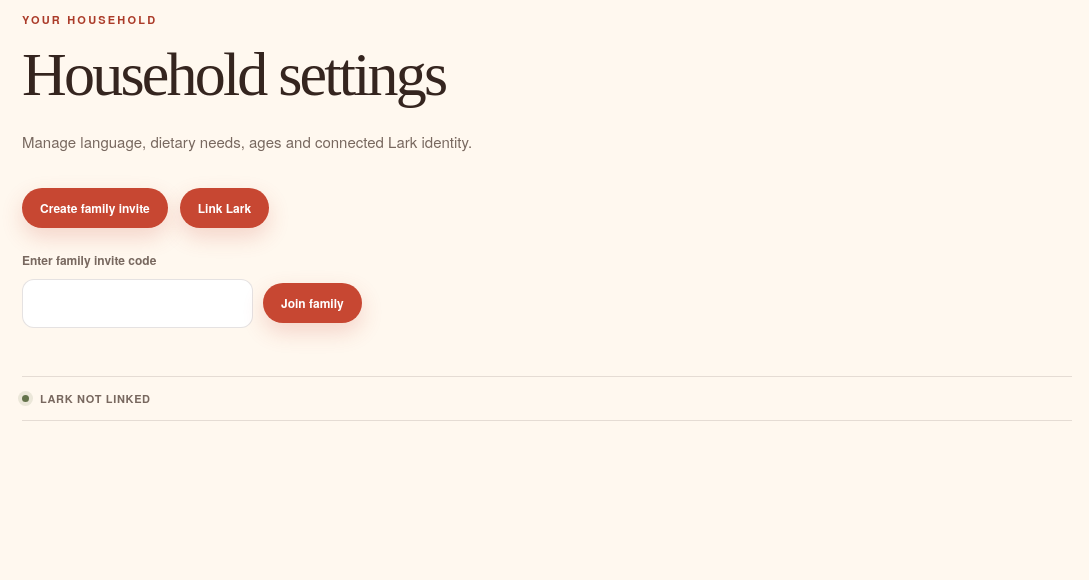
Scenario: creates a family invite and Lark link code from live settings
This screenshot has width=1089, height=580.
Click the button "Create family invite": point(95, 208) [22,188,168,228]
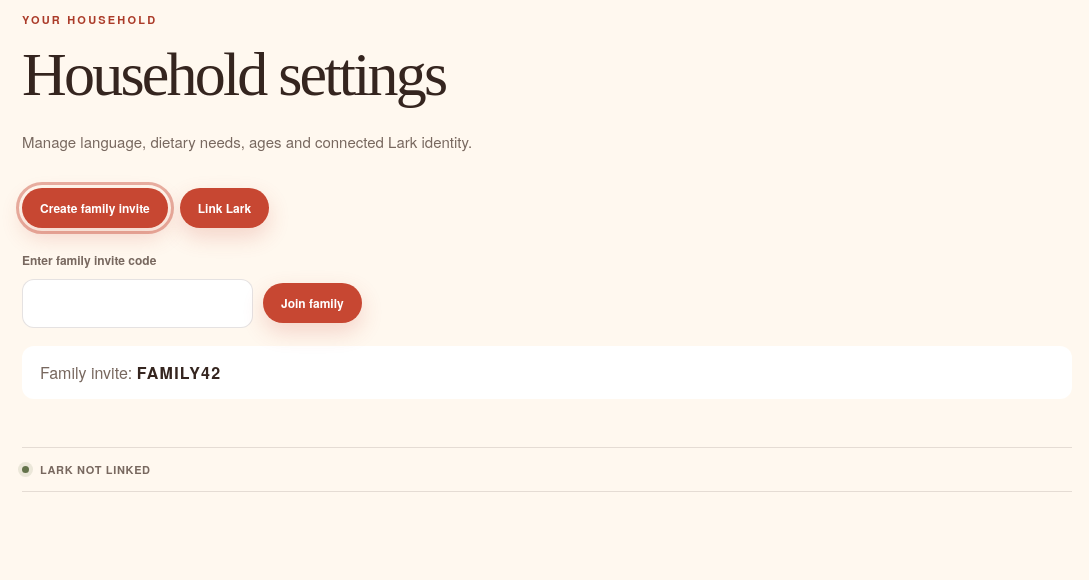
expect the text "FAMILY42" is shown: met, box [137,361,222,384]
Click the button "Link Lark": point(224, 208) [180,188,269,228]
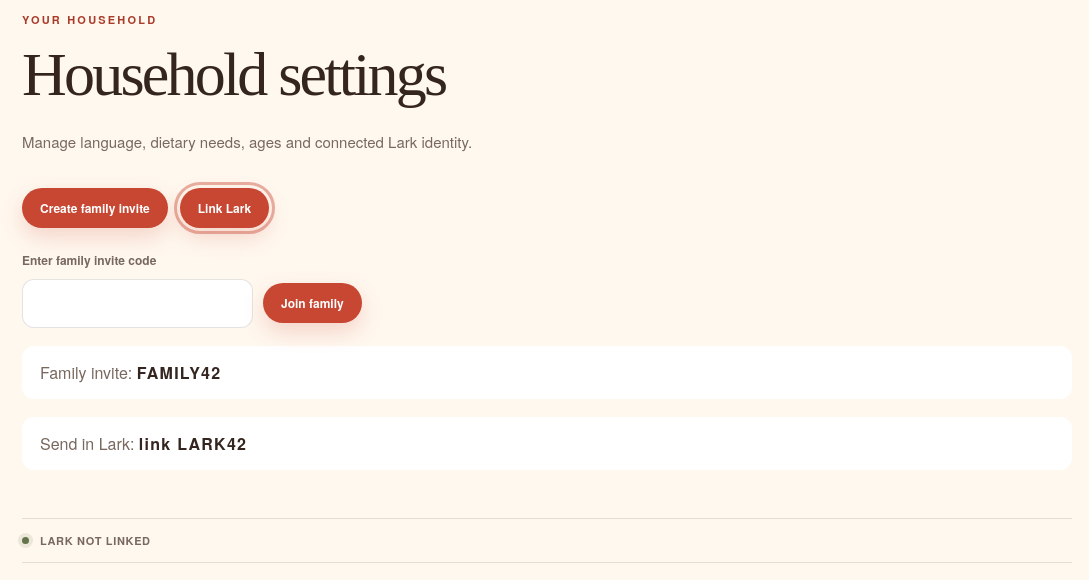
expect the text "link LARK42" is shown: met, box [139,432,247,455]
